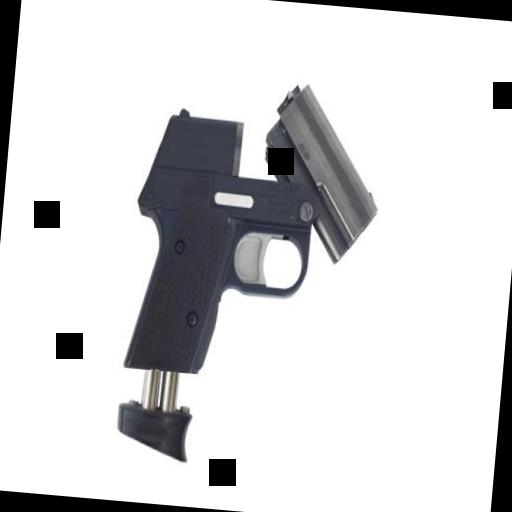Handgun: (78, 67, 396, 485)
